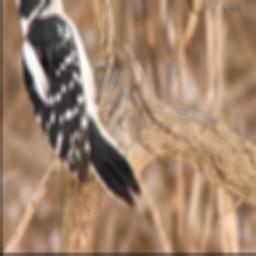Woodpecker: (14, 0, 143, 215)
